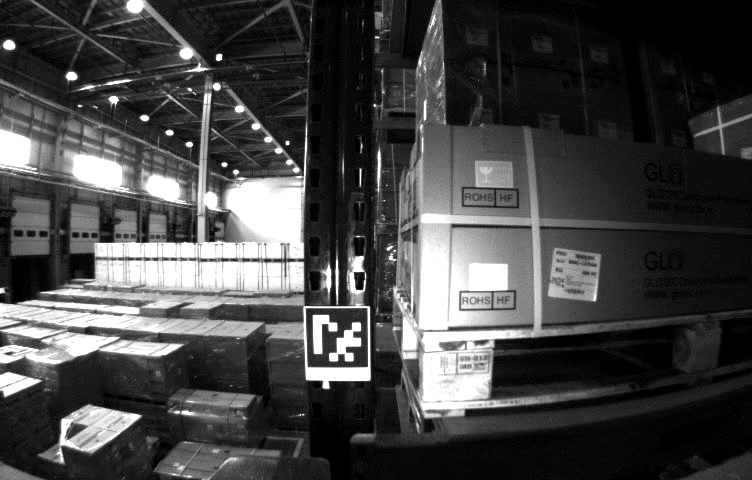True Barcode: (550, 247, 600, 303)
